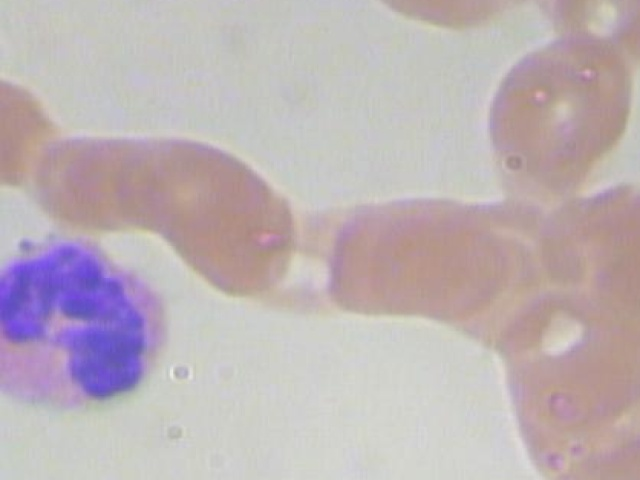RBC: (461, 24, 640, 197), (349, 202, 503, 332), (309, 194, 463, 324), (237, 195, 391, 325), (513, 0, 640, 72), (357, 0, 550, 39), (0, 61, 56, 191)
WBC: (0, 226, 189, 431)
